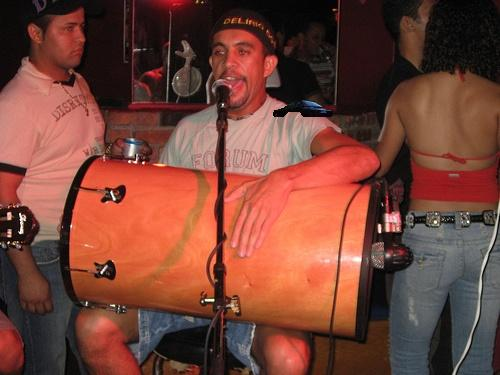tampered: (274, 101, 333, 117)
